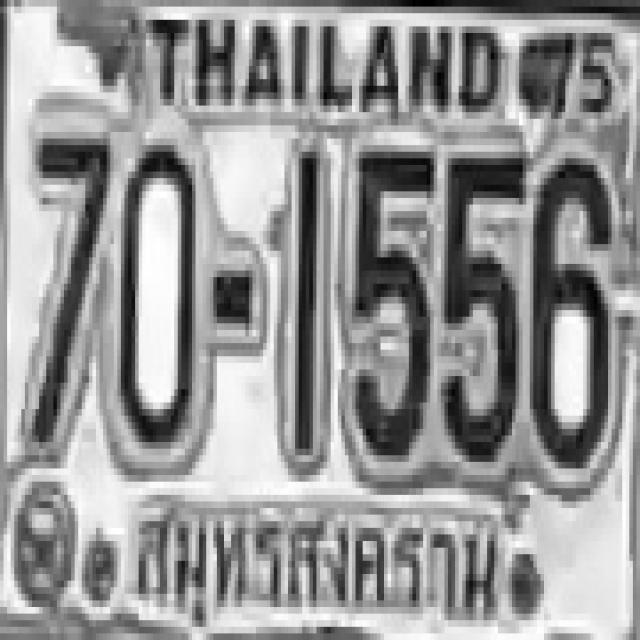0: (119, 139, 197, 442)
1: (270, 145, 320, 469), (284, 142, 320, 465), (288, 142, 320, 465), (292, 142, 320, 465)
5: (441, 145, 523, 455), (352, 145, 430, 455)
6: (530, 152, 608, 462)
7: (23, 129, 112, 445)
SKM: (119, 474, 510, 640)
